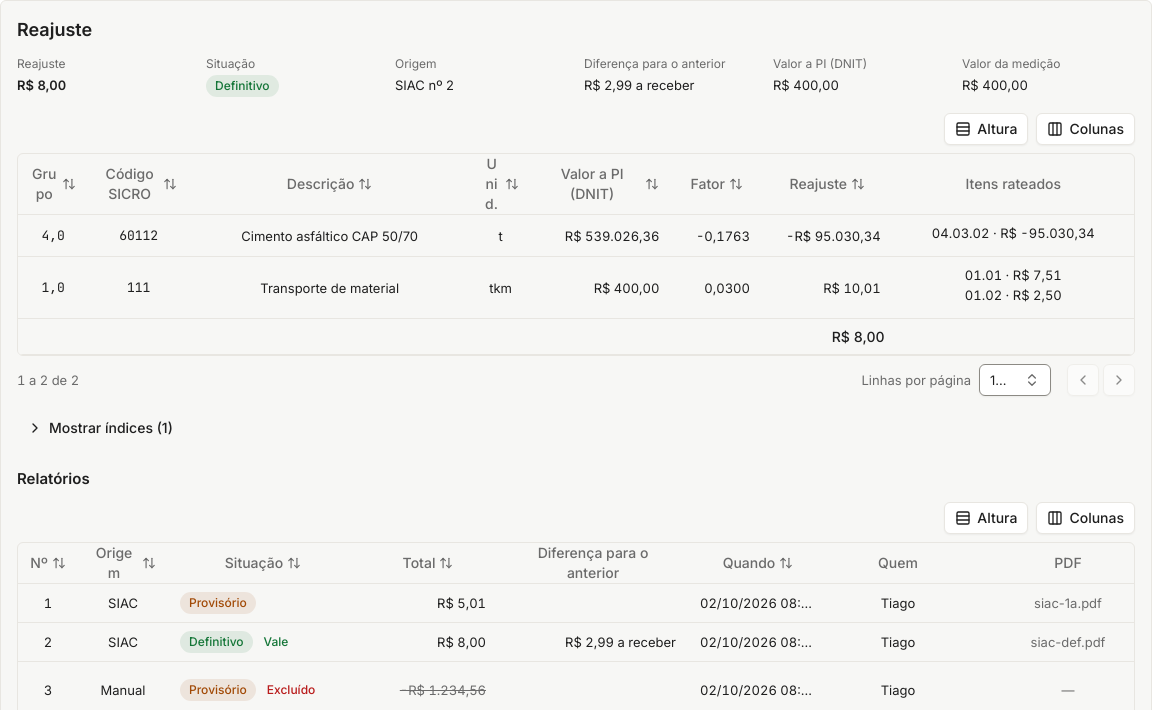
it: SecaoReajuste › índices recolhíveis: aparecem ao abrir
Expected: the text "-0,17626" is not shown
Click the button "Mostrar índices (1)".
click(100, 428)  # box left=17, top=412, right=183, bottom=444
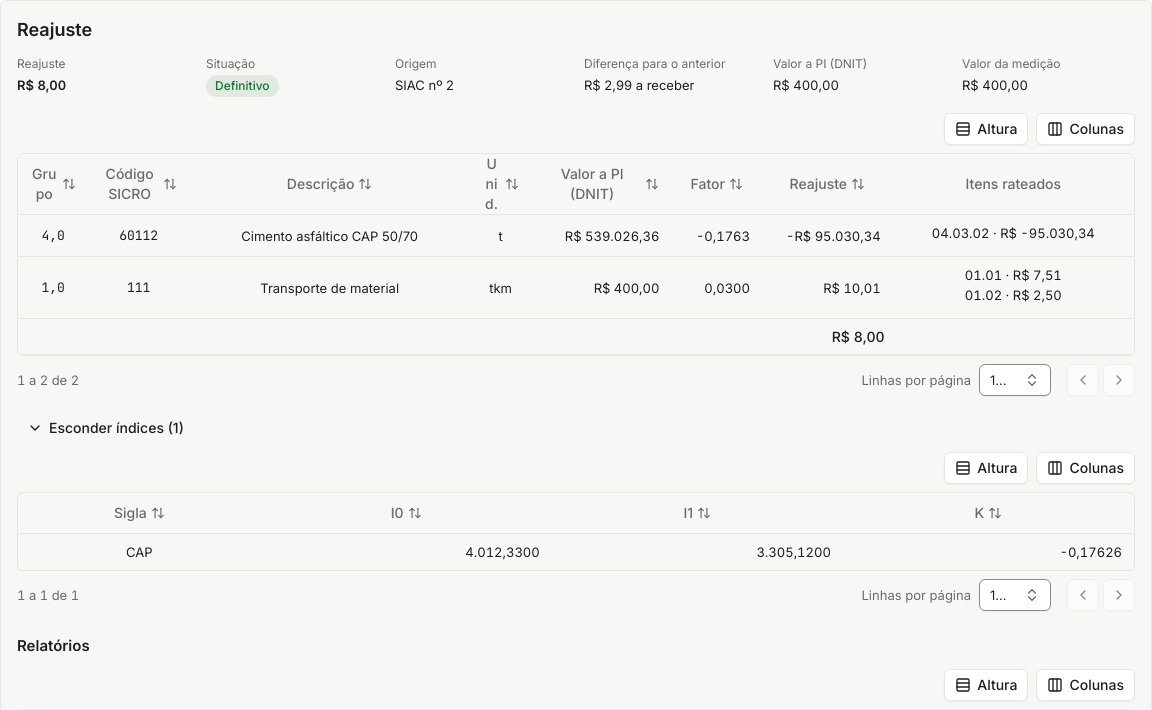
Expected: the text "CAP" is shown, left=126, top=544, right=152, bottom=560
Expected: the text "-0,17626" is shown, left=1060, top=544, right=1122, bottom=560
